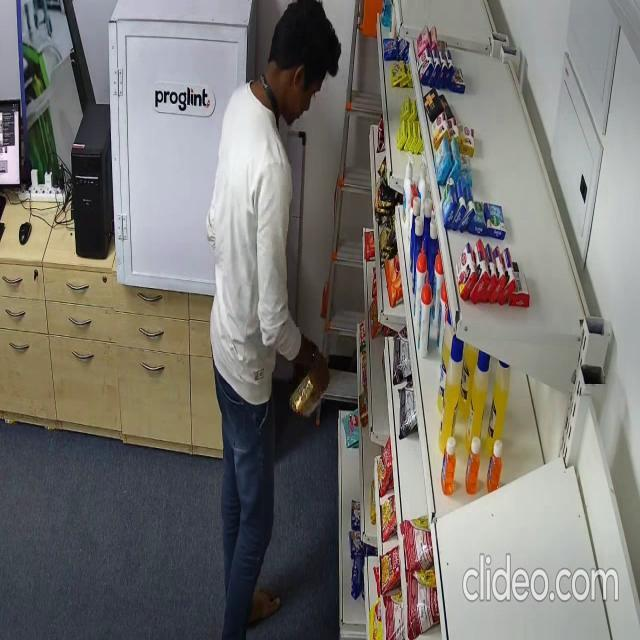normal: (203, 2, 340, 640)
